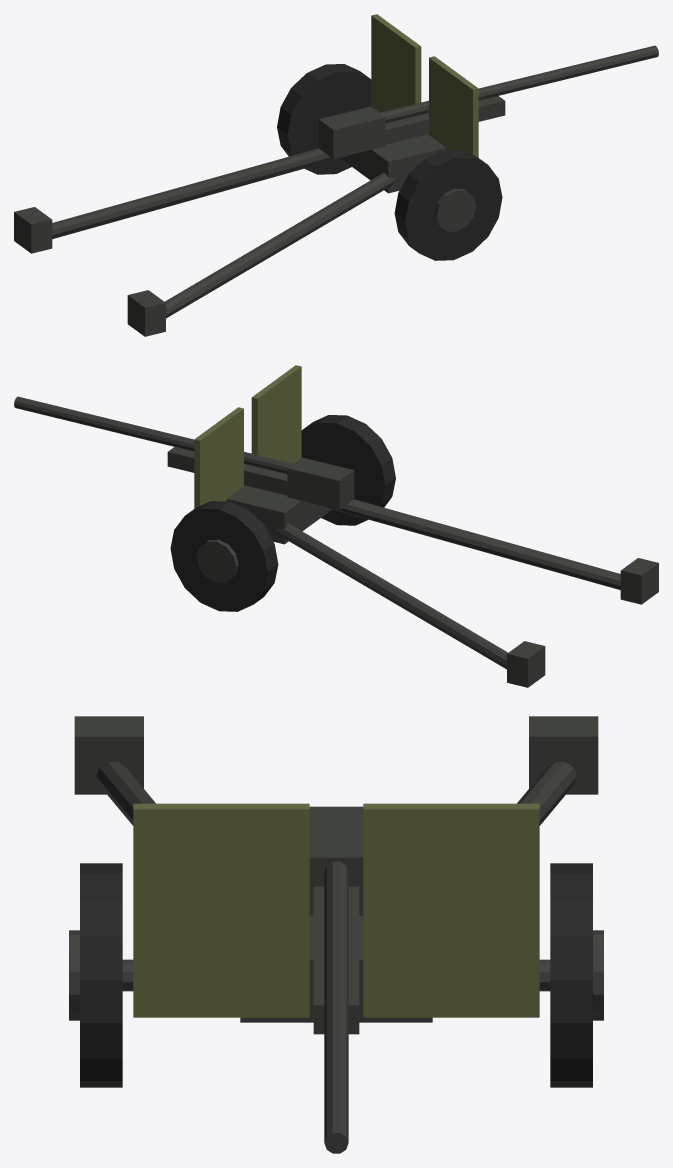
The picture shows the model from 3 angles, top to bottom: view 1: azimuth 30°, elevation 25°; view 2: azimuth 150°, elevation 25°; view 3: azimuth 270°, elevation 25°; orthographic projection. The views are drawn at different scales.
Bounding box in the file's own units: 4.98 × 1.26 × 2.
